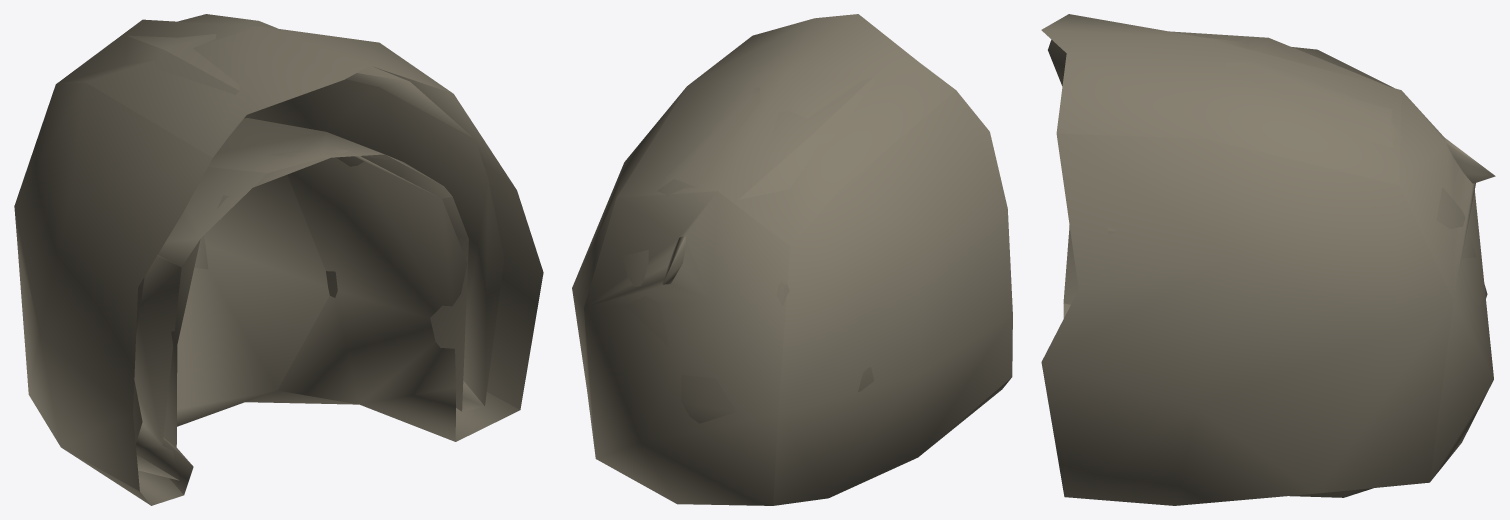
File: panda.glb
The picture shows the model from 3 angles, left to right: view 1: azimuth 30°, elevation 25°; view 2: azimuth 150°, elevation 25°; view 3: azimuth 270°, elevation 25°; orthographic projection. The views are drawn at different scales.
Parts seen in each view (by area): view 1: geometry_0; view 2: geometry_0; view 3: geometry_0.
Part boxes in pixels (box(x1,y1,x2,y2)): geometry_0: box(14, 14, 543, 505); geometry_0: box(572, 14, 1012, 505); geometry_0: box(1041, 14, 1495, 505).
Size of the model in its own units: 0.4482 by 0.4835 by 0.4546.
